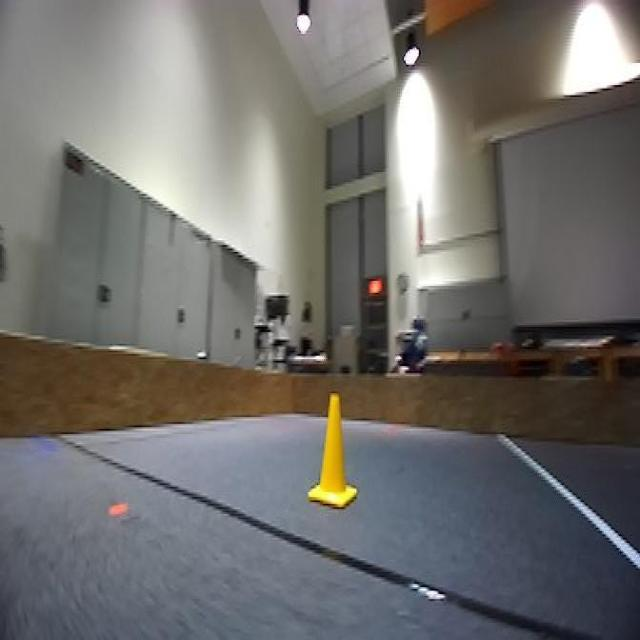frc_cone: (307, 392, 358, 511)
